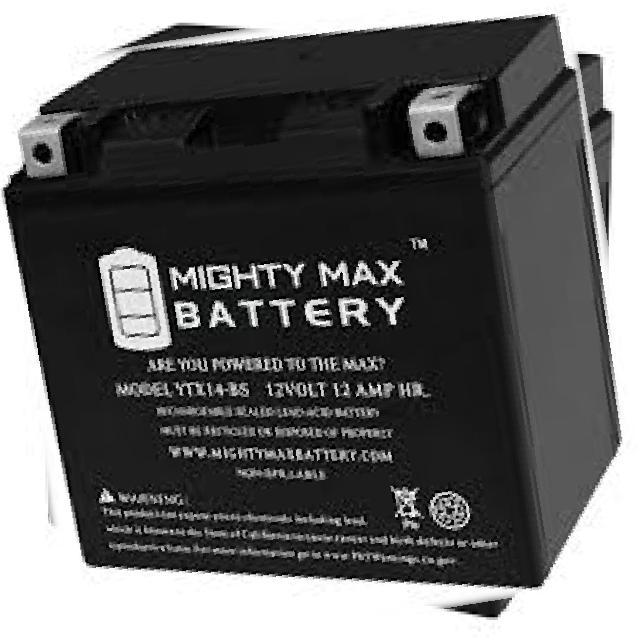Battery: (2, 17, 624, 583)
